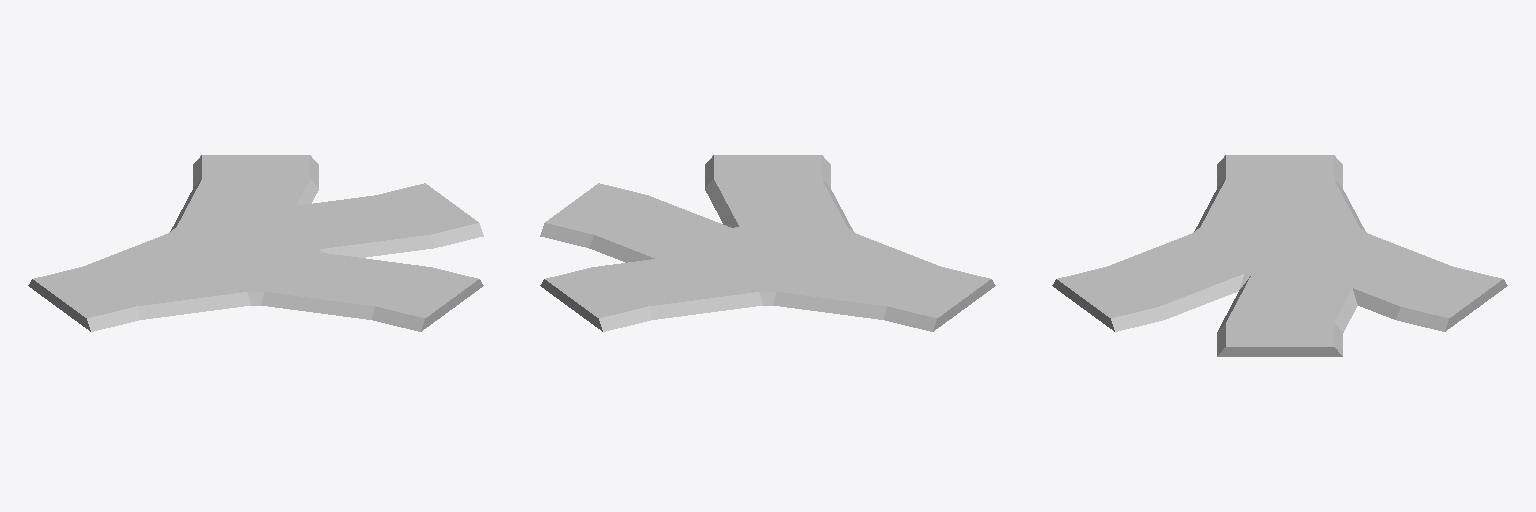
File: path_intersectionD.obj
3 renders of one model, left to right at view 1: azimuth 30°, elevation 25°; view 2: azimuth 150°, elevation 25°; view 3: azimuth 270°, elevation 25°, orthographic.
Visible parts, largest first — view 1: path_intersectionD; view 2: path_intersectionD; view 3: path_intersectionD.
Part boxes in pixels (x1,y1,x2,y2): path_intersectionD: (28, 155, 483, 331); path_intersectionD: (540, 155, 995, 331); path_intersectionD: (1052, 155, 1507, 356).
Bounding box in the file's own units: 1 × 0.025 × 1.01.